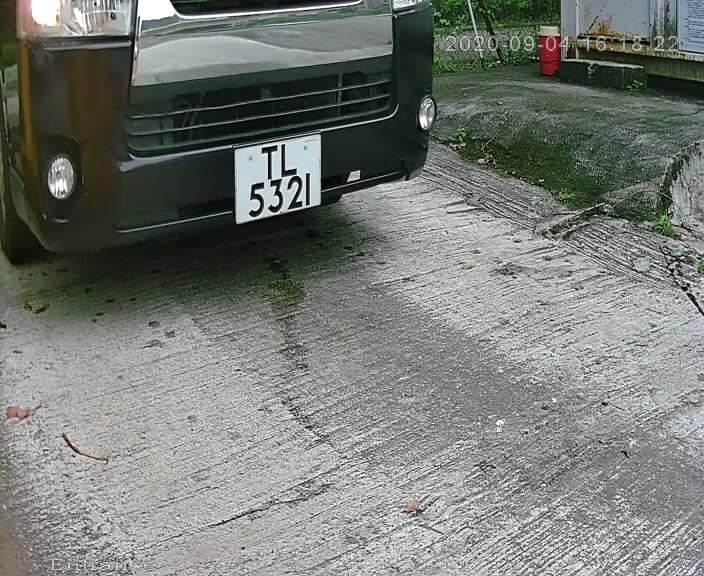Car: (23, 3, 494, 312)
License Plate: (221, 132, 331, 227)
